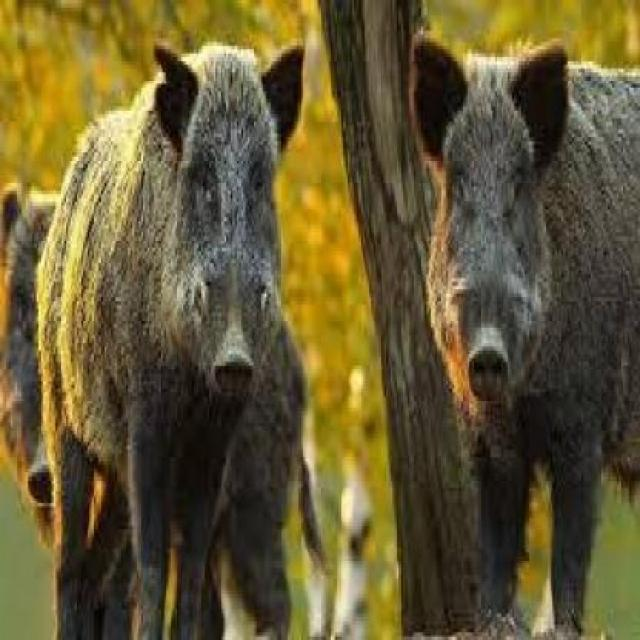0: (400, 29, 640, 636)
Wild Boar: (29, 24, 309, 640), (0, 171, 334, 640)
